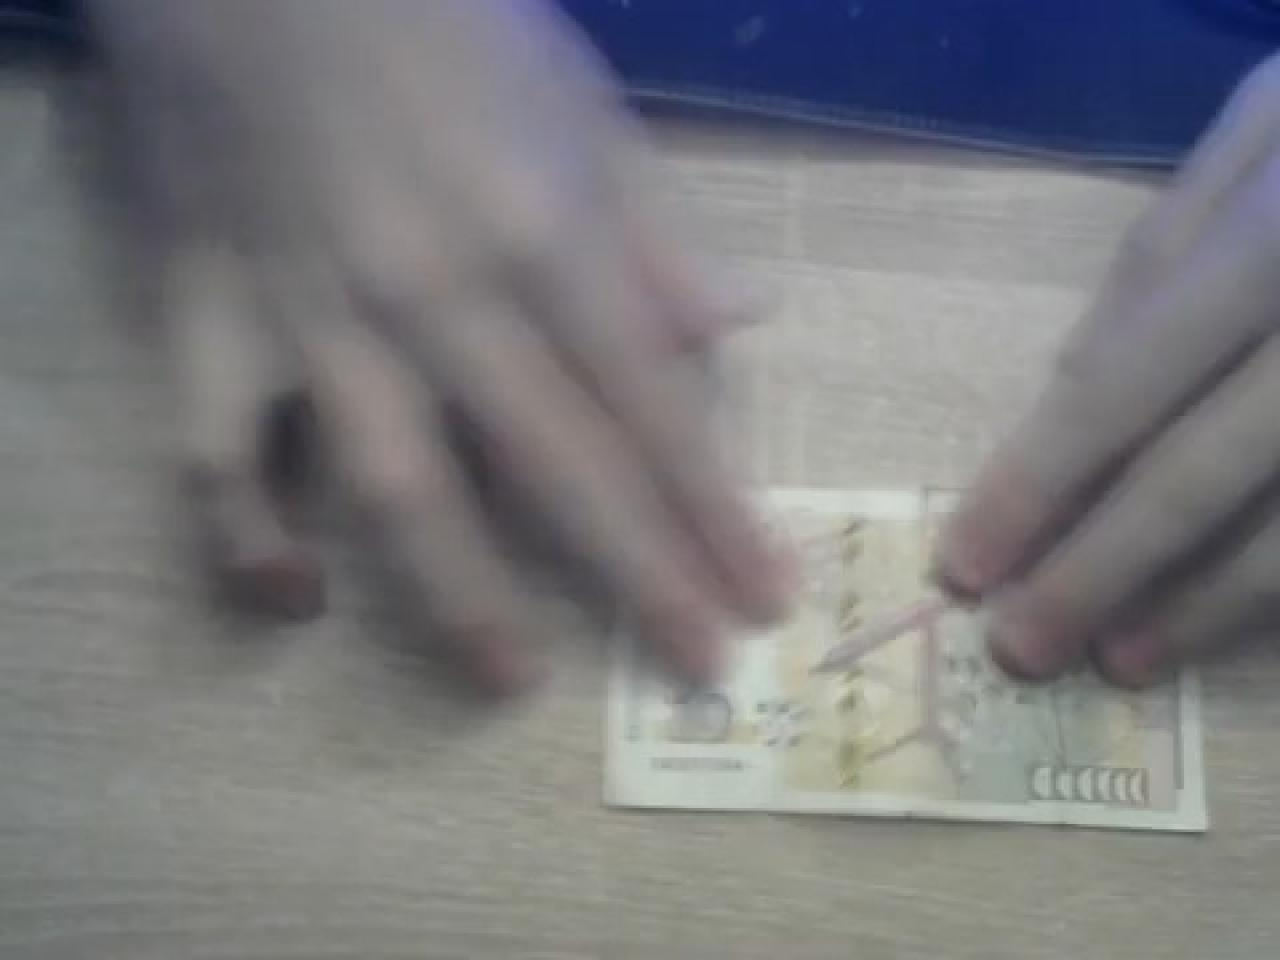10leva: (606, 488, 1205, 837)
